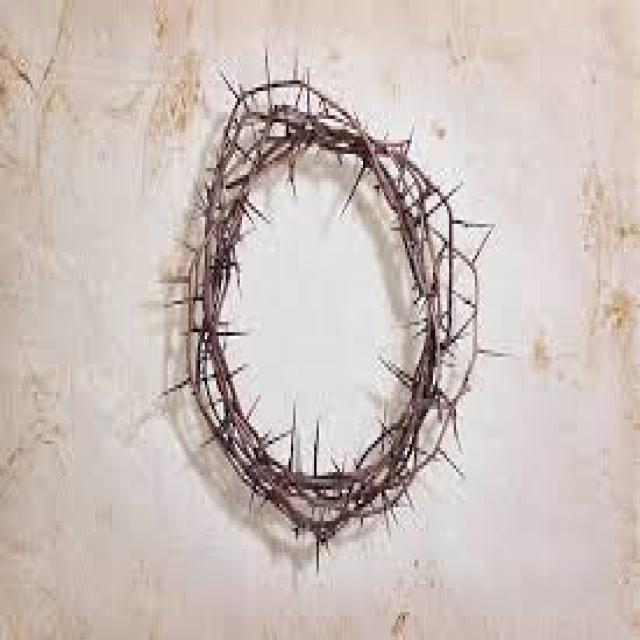crown: (167, 61, 482, 579)
